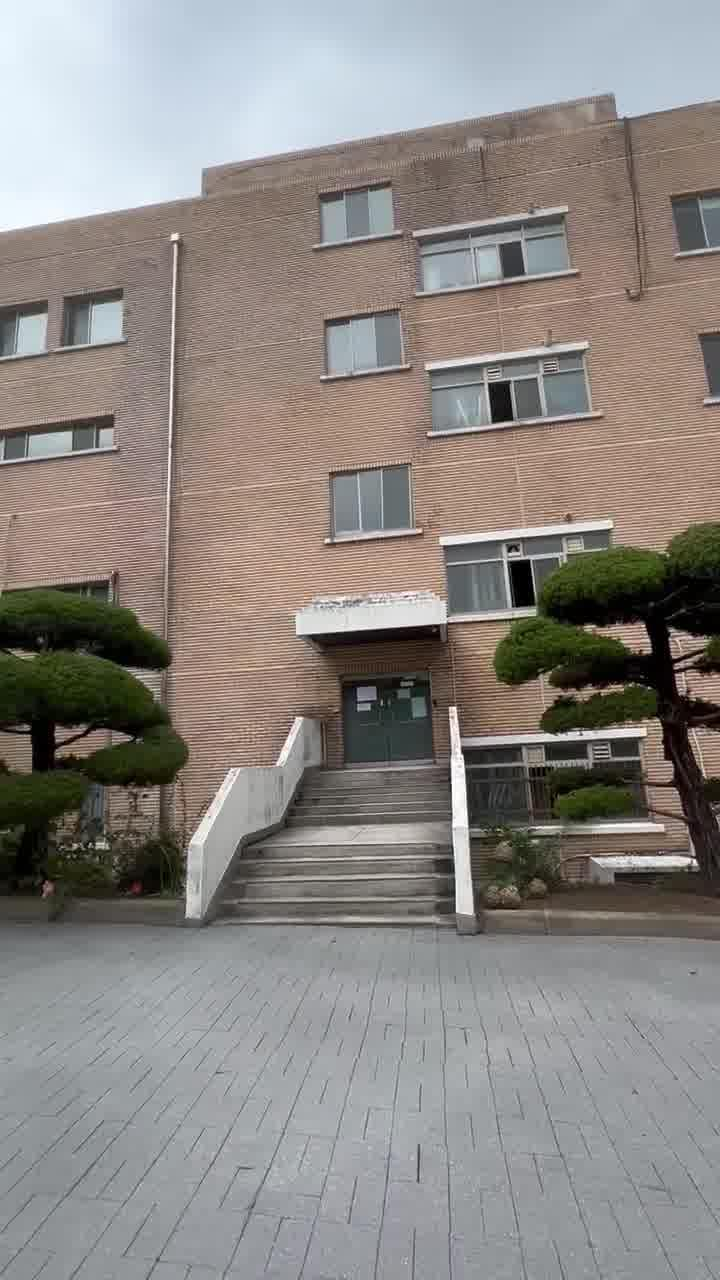building: (46, 130, 534, 882)
